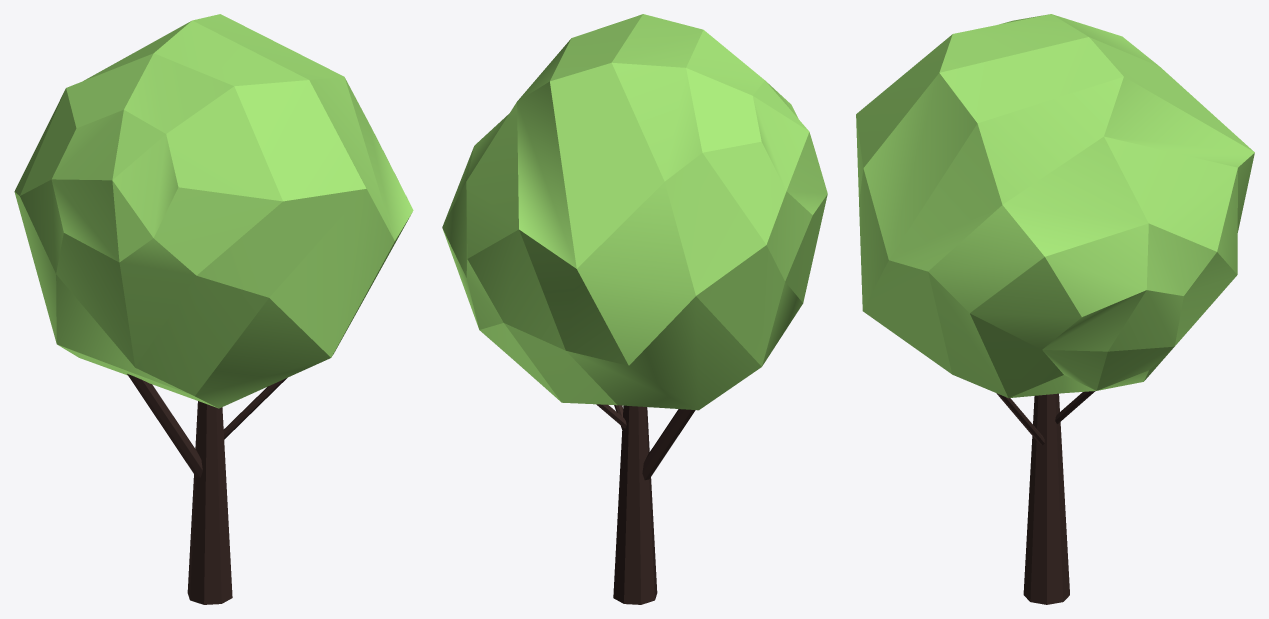
The model's file is Tree.fbx.
3 views of the same model, side by side, from view 1: azimuth 30°, elevation 25°; view 2: azimuth 150°, elevation 25°; view 3: azimuth 270°, elevation 25° (orthographic). The views are drawn at different scales.
Parts seen in each view (by area): view 1: TreeLeave, Tree1, Tree, Tree2; view 2: TreeLeave, Tree1, Tree; view 3: TreeLeave, Tree1.
Boxes of the visible parts, left/top/right/bottom form: TreeLeave: left=14, top=14, right=413, bottom=408; Tree1: left=187, top=401, right=232, bottom=604; Tree: left=127, top=374, right=202, bottom=477; Tree2: left=223, top=378, right=286, bottom=439; TreeLeave: left=442, top=14, right=827, bottom=410; Tree1: left=613, top=405, right=657, bottom=604; Tree: left=642, top=409, right=695, bottom=480; TreeLeave: left=856, top=14, right=1254, bottom=398; Tree1: left=1023, top=393, right=1069, bottom=604.
Bounding box in the file's own units: 49.03 × 79.54 × 51.38.
